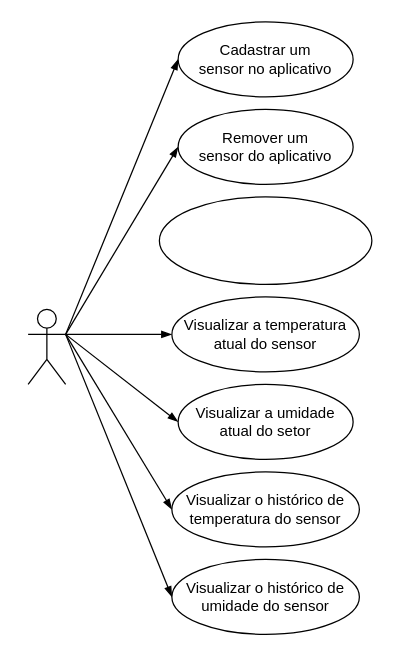
Some shapes in this 394 by 656 pixel diagram are drawn without their labels. Each missing label, with the centre of its shape:
"Atualizar os ddos de um sensor do aplicativo" belongs at (x=265, y=240).
"Usuário" belongs at (x=46, y=346).
